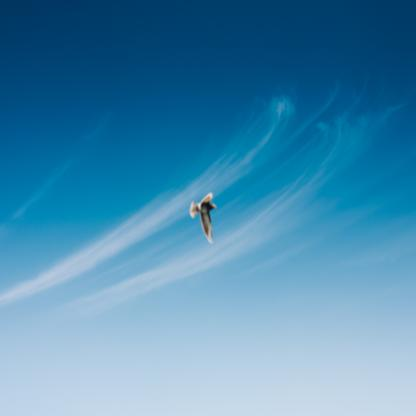bird: (189, 193, 217, 244)
